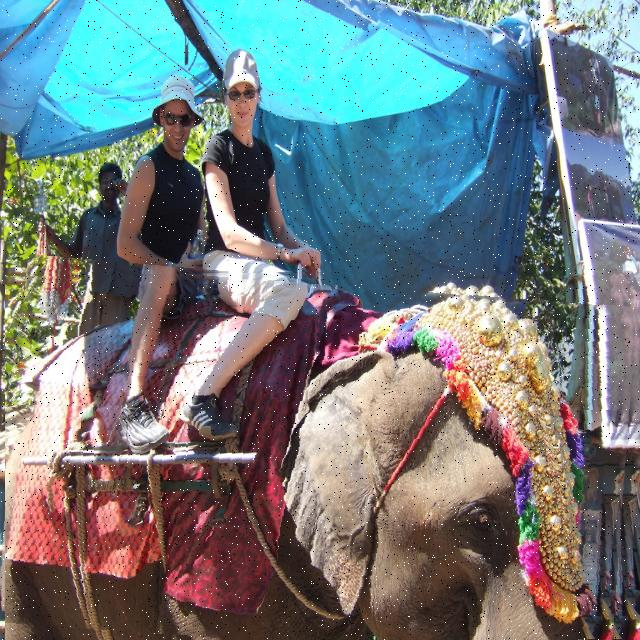elephant: (5, 267, 640, 640)
